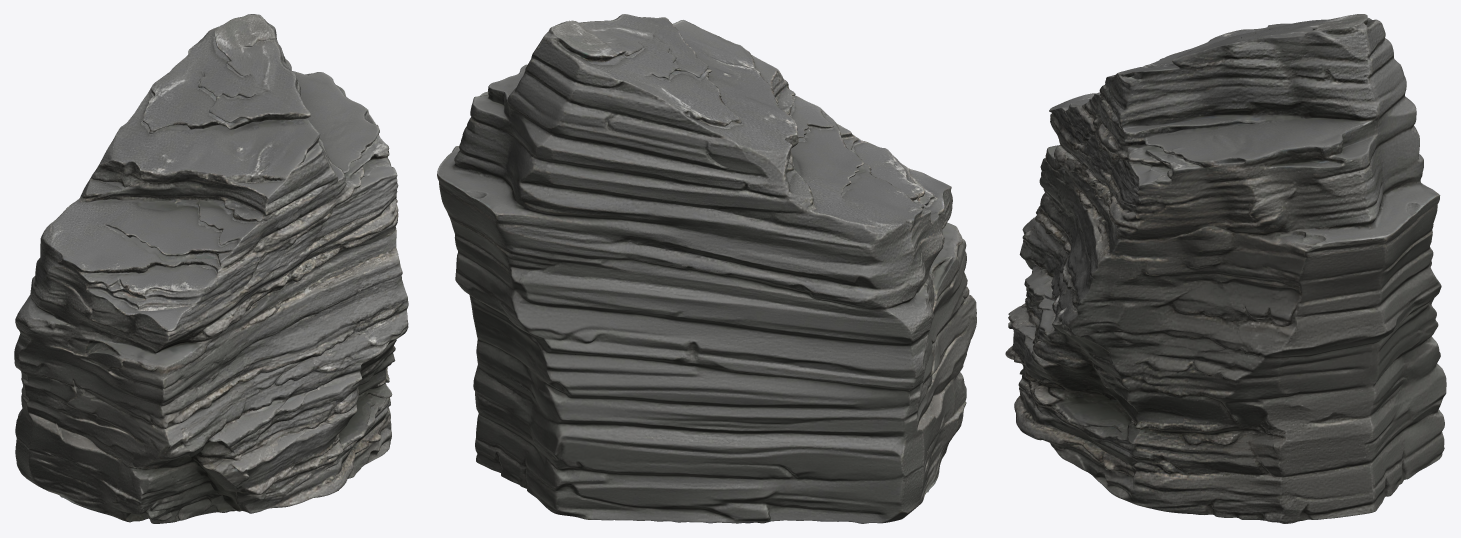
The model's file is rock_ledge.glb.
3 views of the same model, side by side, from view 1: azimuth 30°, elevation 25°; view 2: azimuth 150°, elevation 25°; view 3: azimuth 270°, elevation 25° (orthographic). The views are drawn at different scales.
Visible parts, largest first — view 1: tripo_node_336e1b7b-a89a-4436-8f98-d3167662570b; view 2: tripo_node_336e1b7b-a89a-4436-8f98-d3167662570b; view 3: tripo_node_336e1b7b-a89a-4436-8f98-d3167662570b.
Boxes of the visible parts, bbox=[...] form: tripo_node_336e1b7b-a89a-4436-8f98-d3167662570b: bbox=[14, 14, 408, 523]; tripo_node_336e1b7b-a89a-4436-8f98-d3167662570b: bbox=[437, 14, 976, 523]; tripo_node_336e1b7b-a89a-4436-8f98-d3167662570b: bbox=[1005, 14, 1446, 523].
Bounding box in the file's own units: 0.979 × 0.9465 × 0.8229.
1 material, 1 textured.
